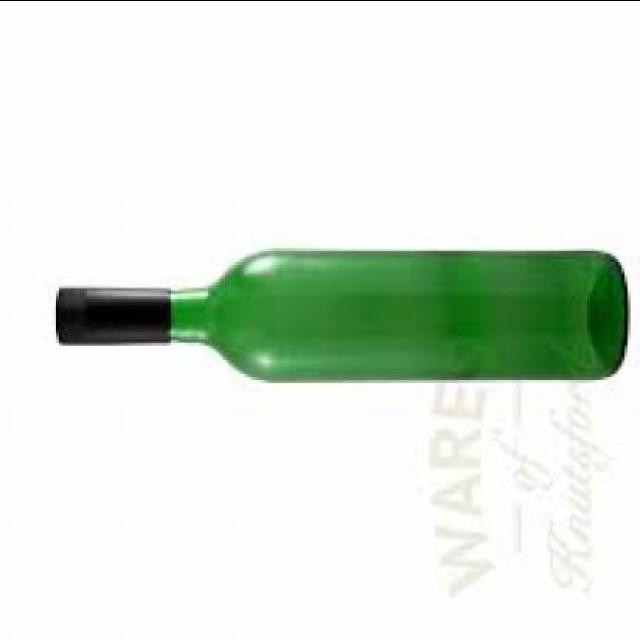kaca: (55, 252, 628, 386)
